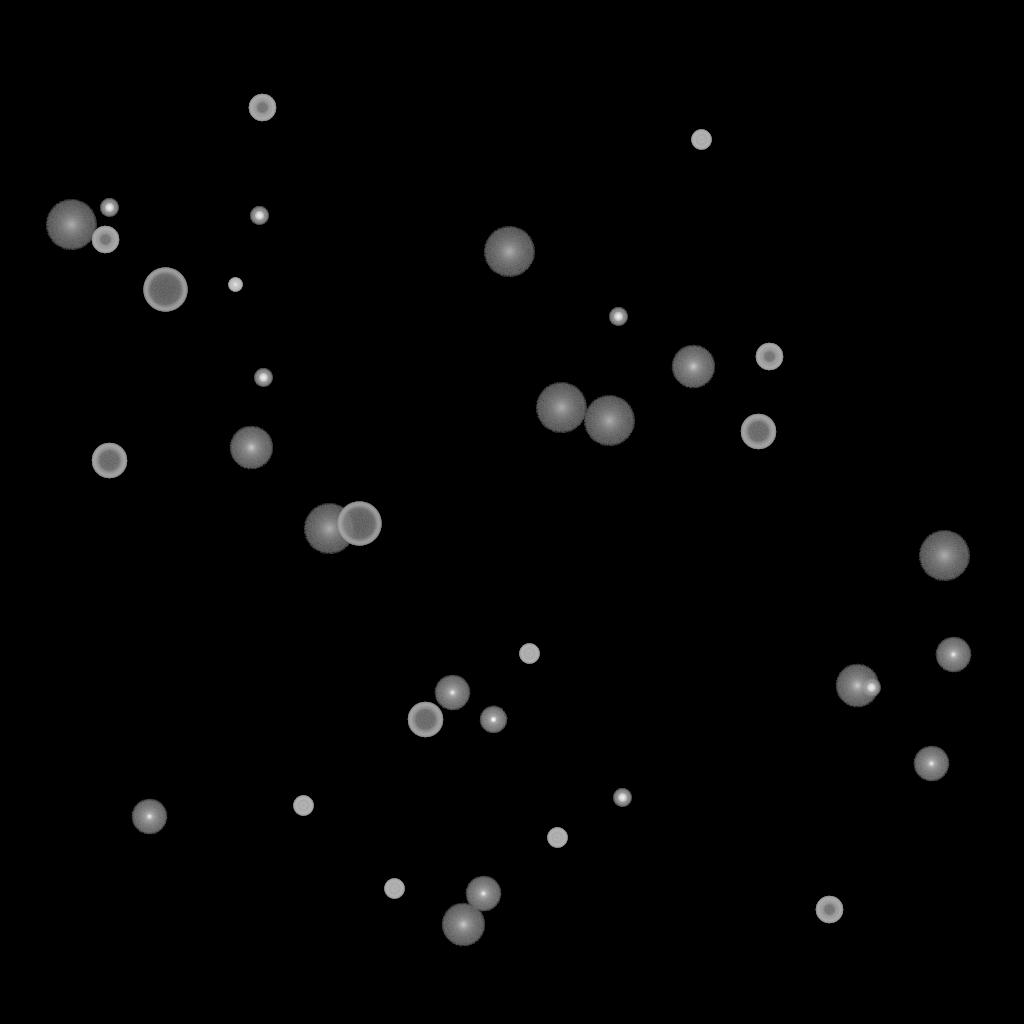depth:-10: (479, 706, 507, 734)
depth:-20: (609, 308, 627, 326), (613, 789, 631, 807), (100, 199, 118, 217), (250, 207, 268, 225), (254, 369, 272, 387), (862, 679, 880, 697)
depth:-30: (228, 278, 242, 292)
depth:-40: (547, 828, 567, 848), (293, 796, 313, 816), (691, 130, 711, 150), (519, 644, 539, 664), (384, 879, 404, 899)
depth:-50: (755, 343, 783, 371), (91, 226, 119, 254), (248, 94, 276, 122), (815, 896, 843, 924)
depth:-60: (740, 414, 776, 450), (91, 443, 127, 479), (407, 702, 443, 738)
depth:-70: (337, 502, 381, 546), (143, 268, 187, 312)
depth:0: (935, 637, 971, 673), (434, 675, 470, 711), (465, 876, 501, 912), (131, 799, 167, 835), (913, 746, 949, 782)
depth:10: (835, 664, 879, 708), (229, 426, 273, 470), (441, 903, 485, 947), (671, 345, 715, 389)
depth:20: (303, 504, 355, 554), (45, 200, 97, 250), (535, 383, 587, 433), (483, 227, 535, 277), (918, 531, 970, 581), (583, 396, 635, 446)
